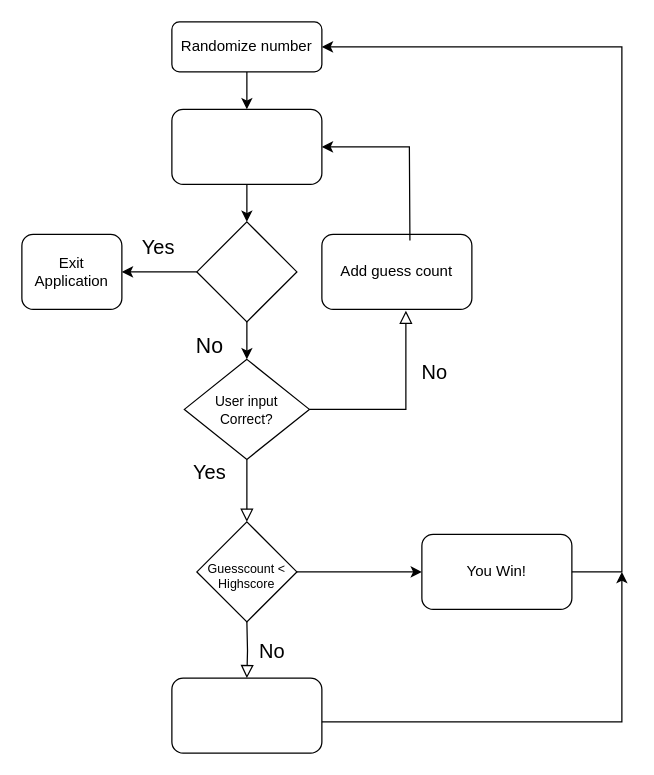
The diagram is 654 pixels wide and 775 high, and some of its shapes have lost their labels. Here are the shapes that lost their labels. From the top down, the centre of each, then its label:
point 246,146: Get user input
point 246,271: User input 0?
point 246,715: You Lose
